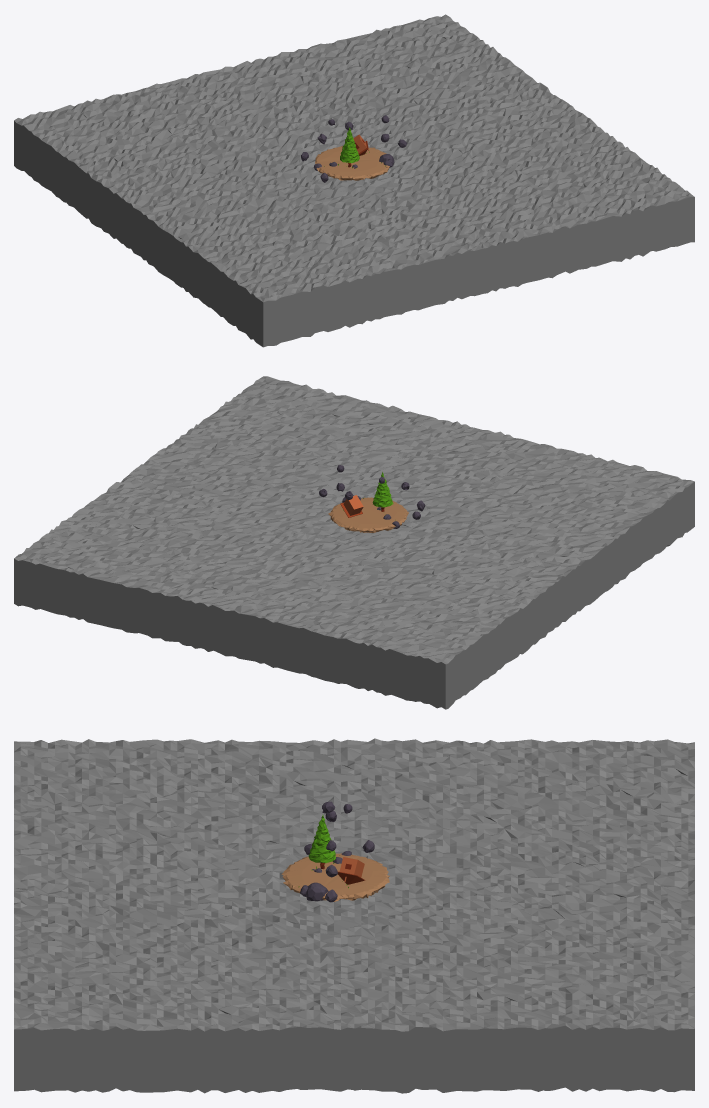
The model's file is LowPolyIsland_FBX.FBX.
3 views of the same model, one above another, from view 1: azimuth 30°, elevation 25°; view 2: azimuth 150°, elevation 25°; view 3: azimuth 270°, elevation 25° (orthographic). The views are drawn at different scales.
Parts seen in each view (by area): view 1: Ocean001, Cone002; view 2: Ocean001, Cone002; view 3: Ocean001, Cone002, Cone001.
Part boxes in pixels (x1,y1,x2,y2): Ocean001: (14,14,694,347); Cone002: (315,146,389,180); Ocean001: (14,376,694,709); Cone002: (328,497,408,532); Ocean001: (14,738,694,1093); Cone002: (281,853,389,901); Cone001: (308,814,335,863).
Size of the model in its own units: 5000 by 1054 by 5000.
